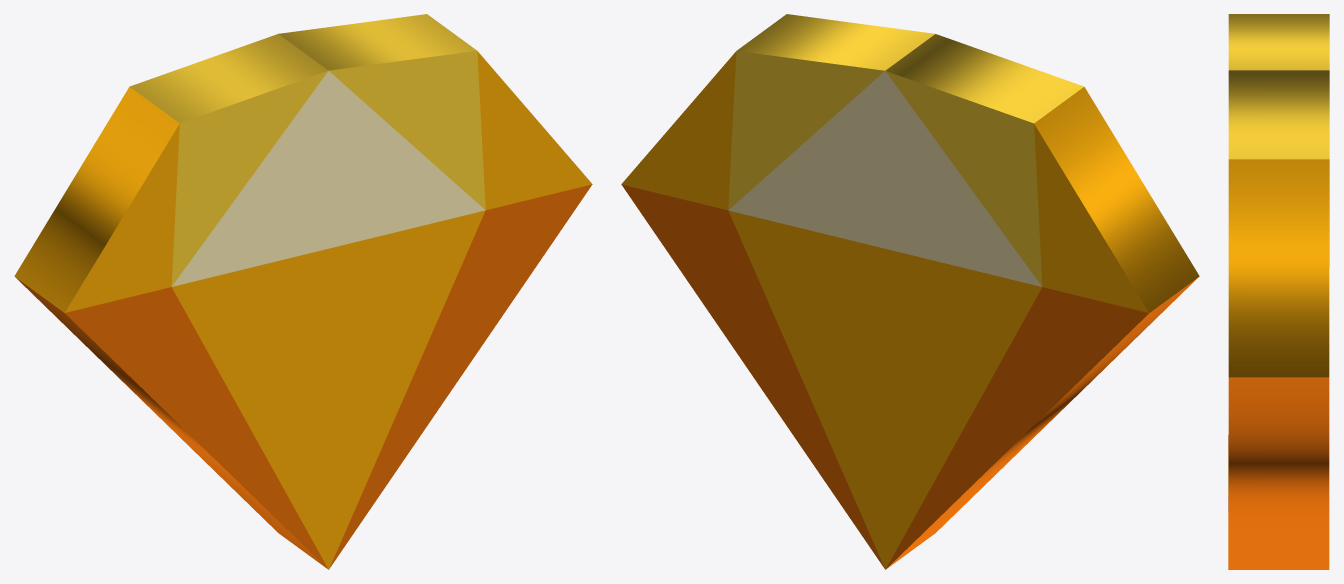
The model's file is Sketch.gltf.
3 views of the same model, side by side, from view 1: azimuth 30°, elevation 25°; view 2: azimuth 150°, elevation 25°; view 3: azimuth 270°, elevation 25° (orthographic).
Parts seen in each view (by area): view 1: CenterBottom, Center, TopFurtherLeft, LeftBottom, TopLeft, TopRight, RightBottom, TopFurtherRight; view 2: CenterBottom, Center, TopFurtherLeft, LeftBottom, TopLeft, TopRight, RightBottom, TopFurtherRight; view 3: TopFurtherRight, RightBottom, TopRight, TopLeft.
Part boxes in pixels (bbox=[...]): CenterBottom: bbox=[172, 210, 485, 569]; Center: bbox=[172, 71, 485, 286]; TopFurtherLeft: bbox=[14, 87, 179, 312]; LeftBottom: bbox=[16, 278, 328, 569]; TopLeft: bbox=[129, 34, 328, 286]; TopRight: bbox=[278, 14, 485, 209]; RightBottom: bbox=[329, 184, 592, 568]; TopFurtherRight: bbox=[477, 51, 592, 210]; CenterBottom: bbox=[728, 210, 1042, 569]; Center: bbox=[728, 71, 1041, 286]; TopFurtherLeft: bbox=[1034, 86, 1199, 312]; LeftBottom: bbox=[886, 276, 1199, 569]; TopLeft: bbox=[885, 34, 1083, 286]; TopRight: bbox=[728, 14, 934, 209]; RightBottom: bbox=[621, 184, 884, 568]; TopFurtherRight: bbox=[621, 51, 736, 210]; TopFurtherRight: bbox=[1228, 159, 1329, 377]; RightBottom: bbox=[1228, 377, 1329, 569]; TopRight: bbox=[1228, 70, 1329, 159]; TopLeft: bbox=[1228, 14, 1329, 70].
Bounding box in the file's own units: 0.0606 × 0.0547 × 0.01.
